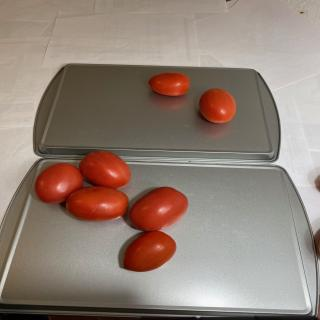Tomato: (129, 186, 189, 231), (65, 186, 128, 222), (123, 231, 177, 272), (34, 162, 84, 204), (79, 150, 131, 189), (198, 88, 236, 124), (148, 72, 190, 96)
